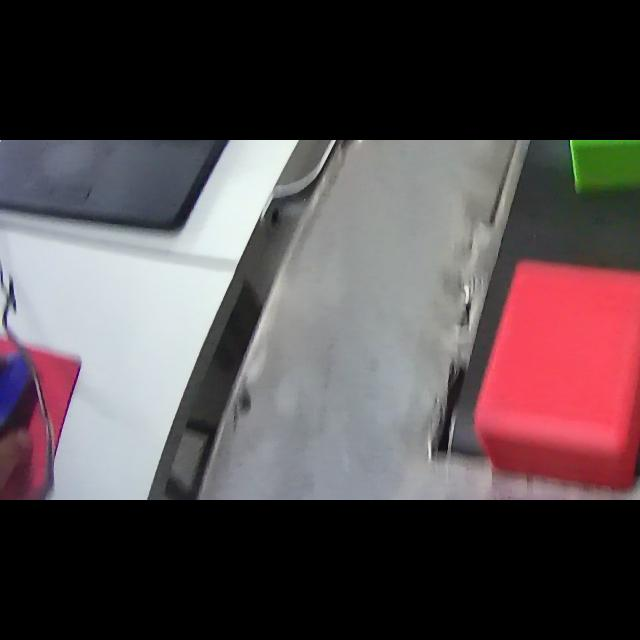greenBox: (562, 140, 640, 198)
redBox: (462, 252, 640, 493)
